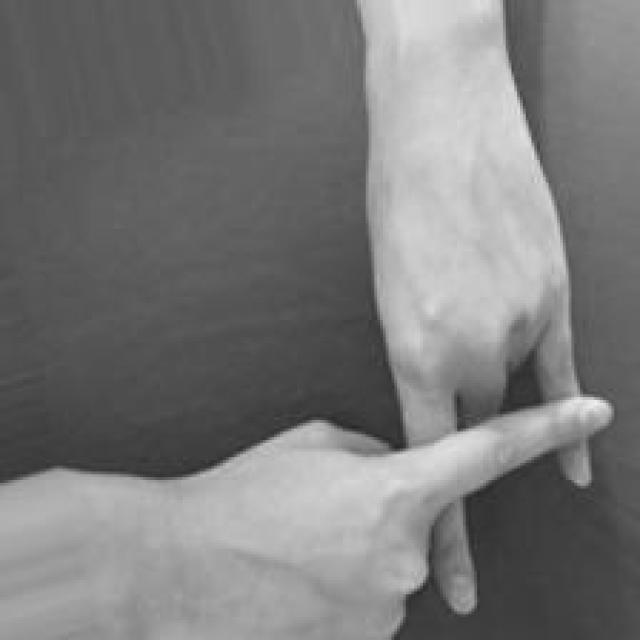H: (160, 174, 617, 640)
